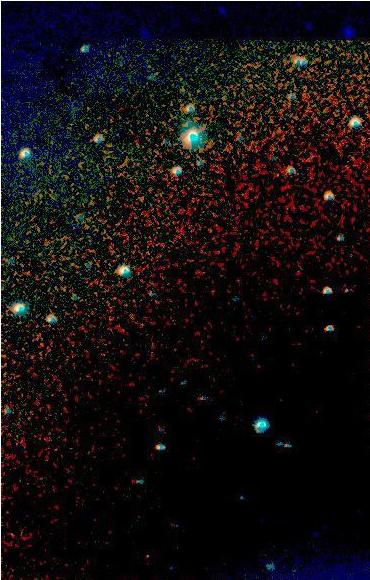star: (280, 554, 310, 580)
